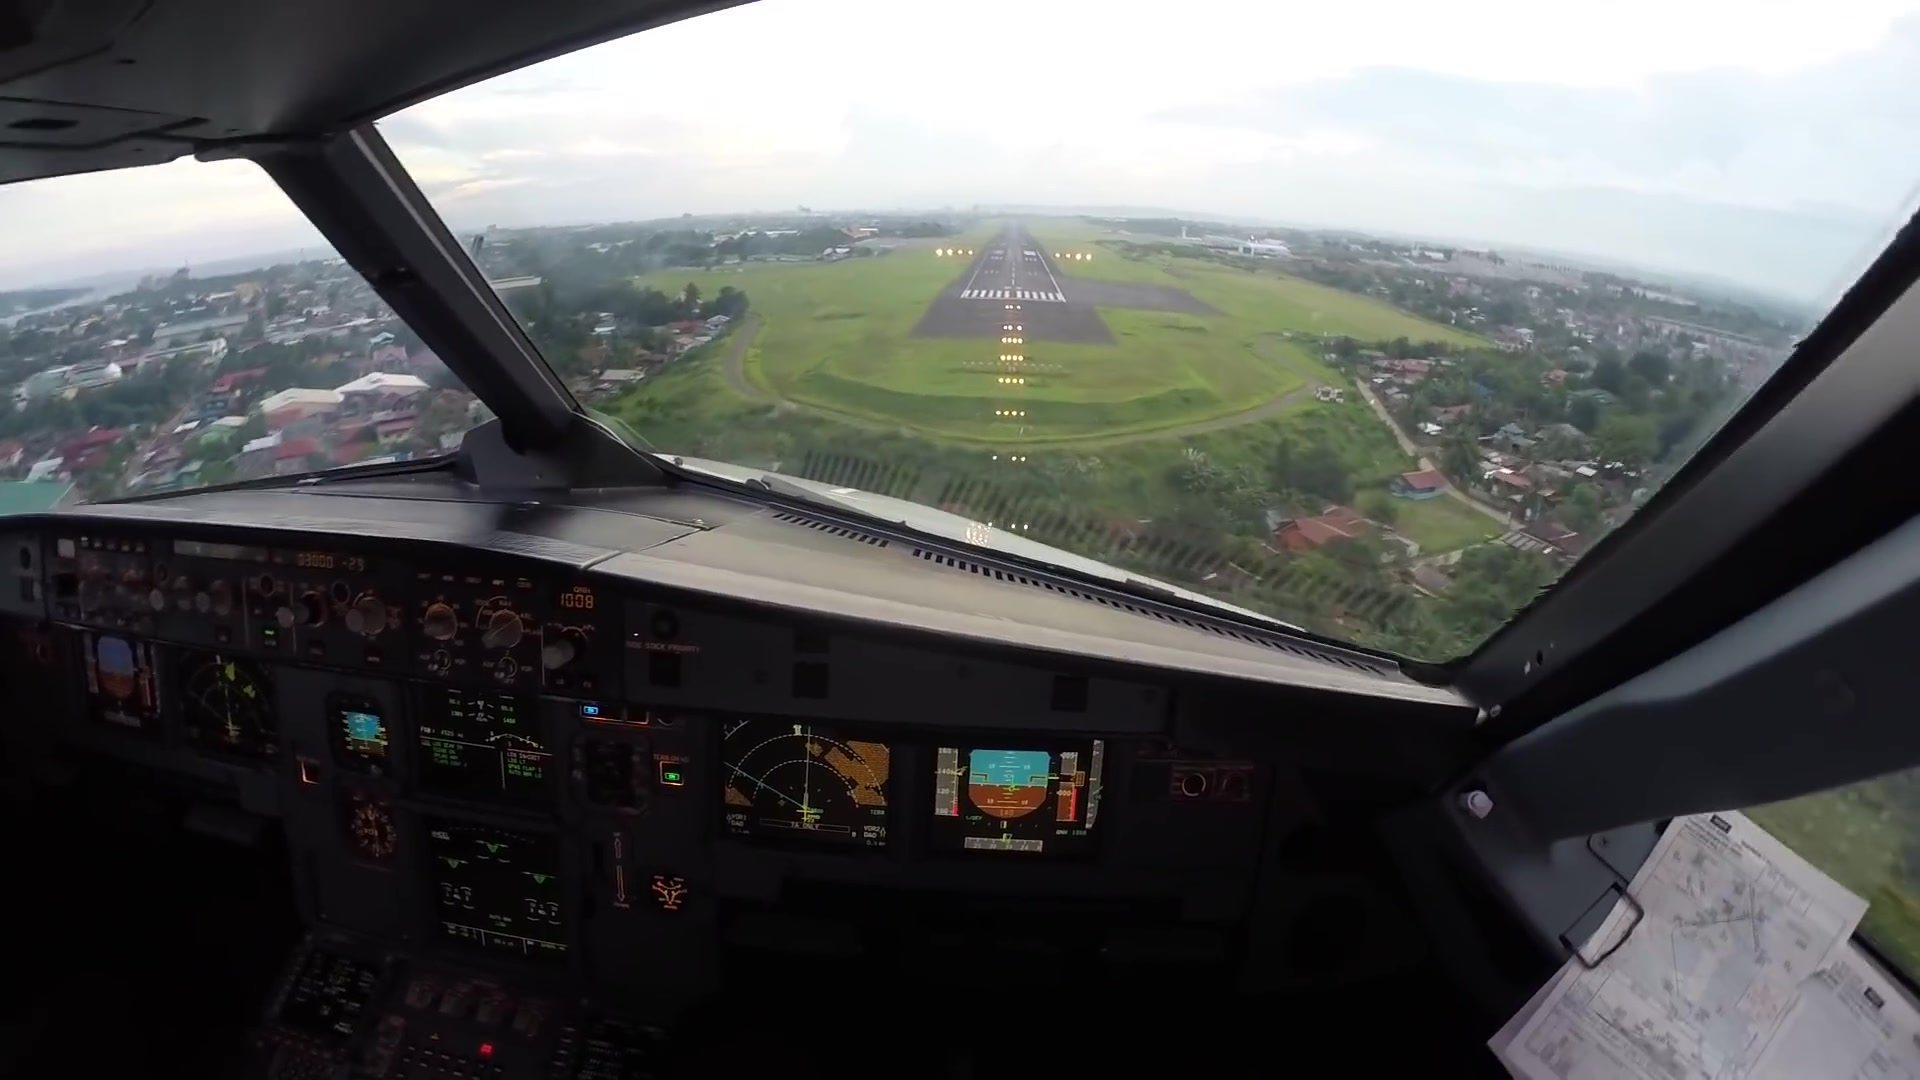entrance: (959, 284, 1068, 305)
runway: (913, 227, 1104, 338)
